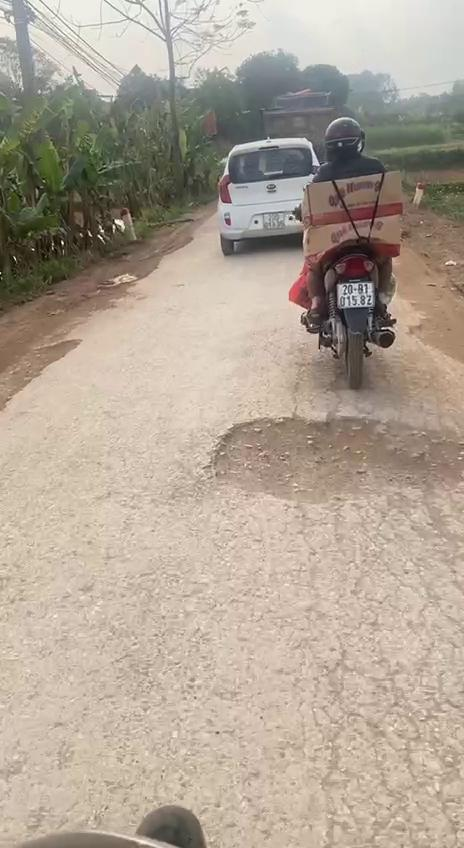pothole: (205, 415, 464, 513), (0, 336, 95, 420)
